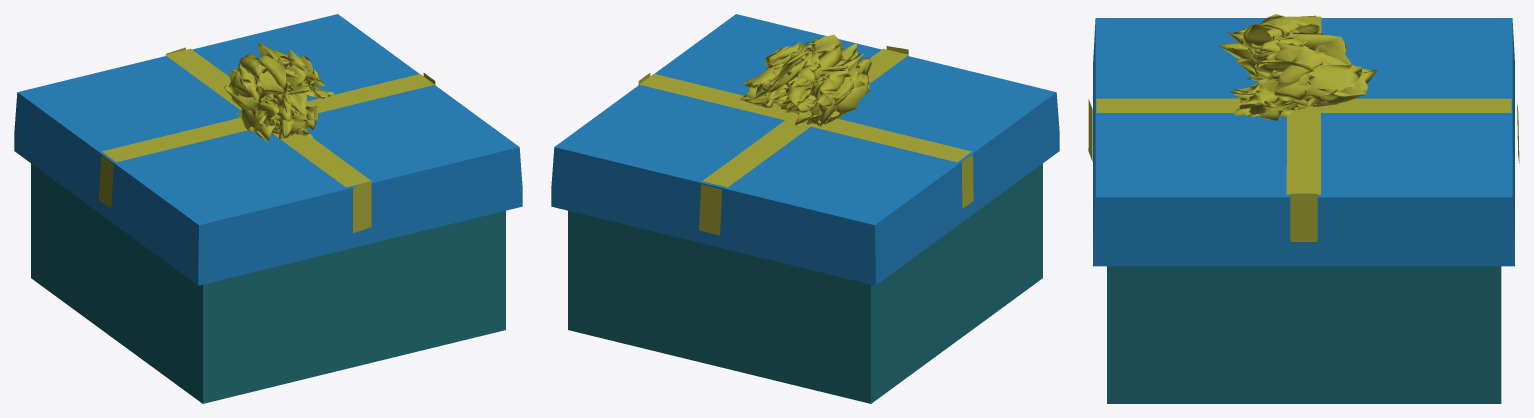
File: gift.dae
3 renders of one model, left to right at view 1: azimuth 30°, elevation 25°; view 2: azimuth 150°, elevation 25°; view 3: azimuth 270°, elevation 25°, orthographic. The views are drawn at different scales.
Parts seen in each view (by area): view 1: lid, Plane, Merged_Meshes; view 2: lid, Plane, Merged_Meshes; view 3: lid, Plane, Merged_Meshes.
Part boxes in pixels (x1,y1,x2,y2): lid: (14,14,522,285); Plane: (31,163,505,403); Merged_Meshes: (99,42,435,233); lid: (551,14,1059,285); Plane: (568,163,1042,403); Merged_Meshes: (638,34,973,235); lid: (1093,18,1514,266); Plane: (1107,266,1501,403); Merged_Meshes: (1088,14,1519,241).
Bounding box in the file's own units: 2.76 × 2.08 × 2.76.
